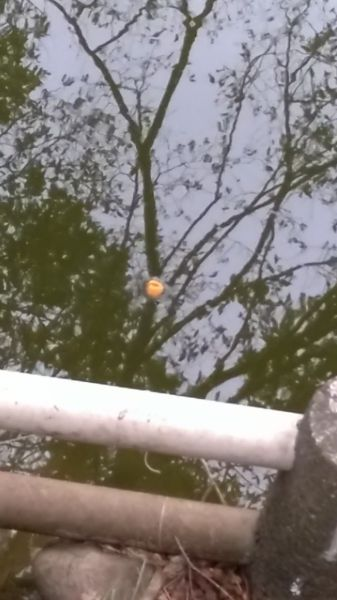eggs: (140, 272, 170, 300)
